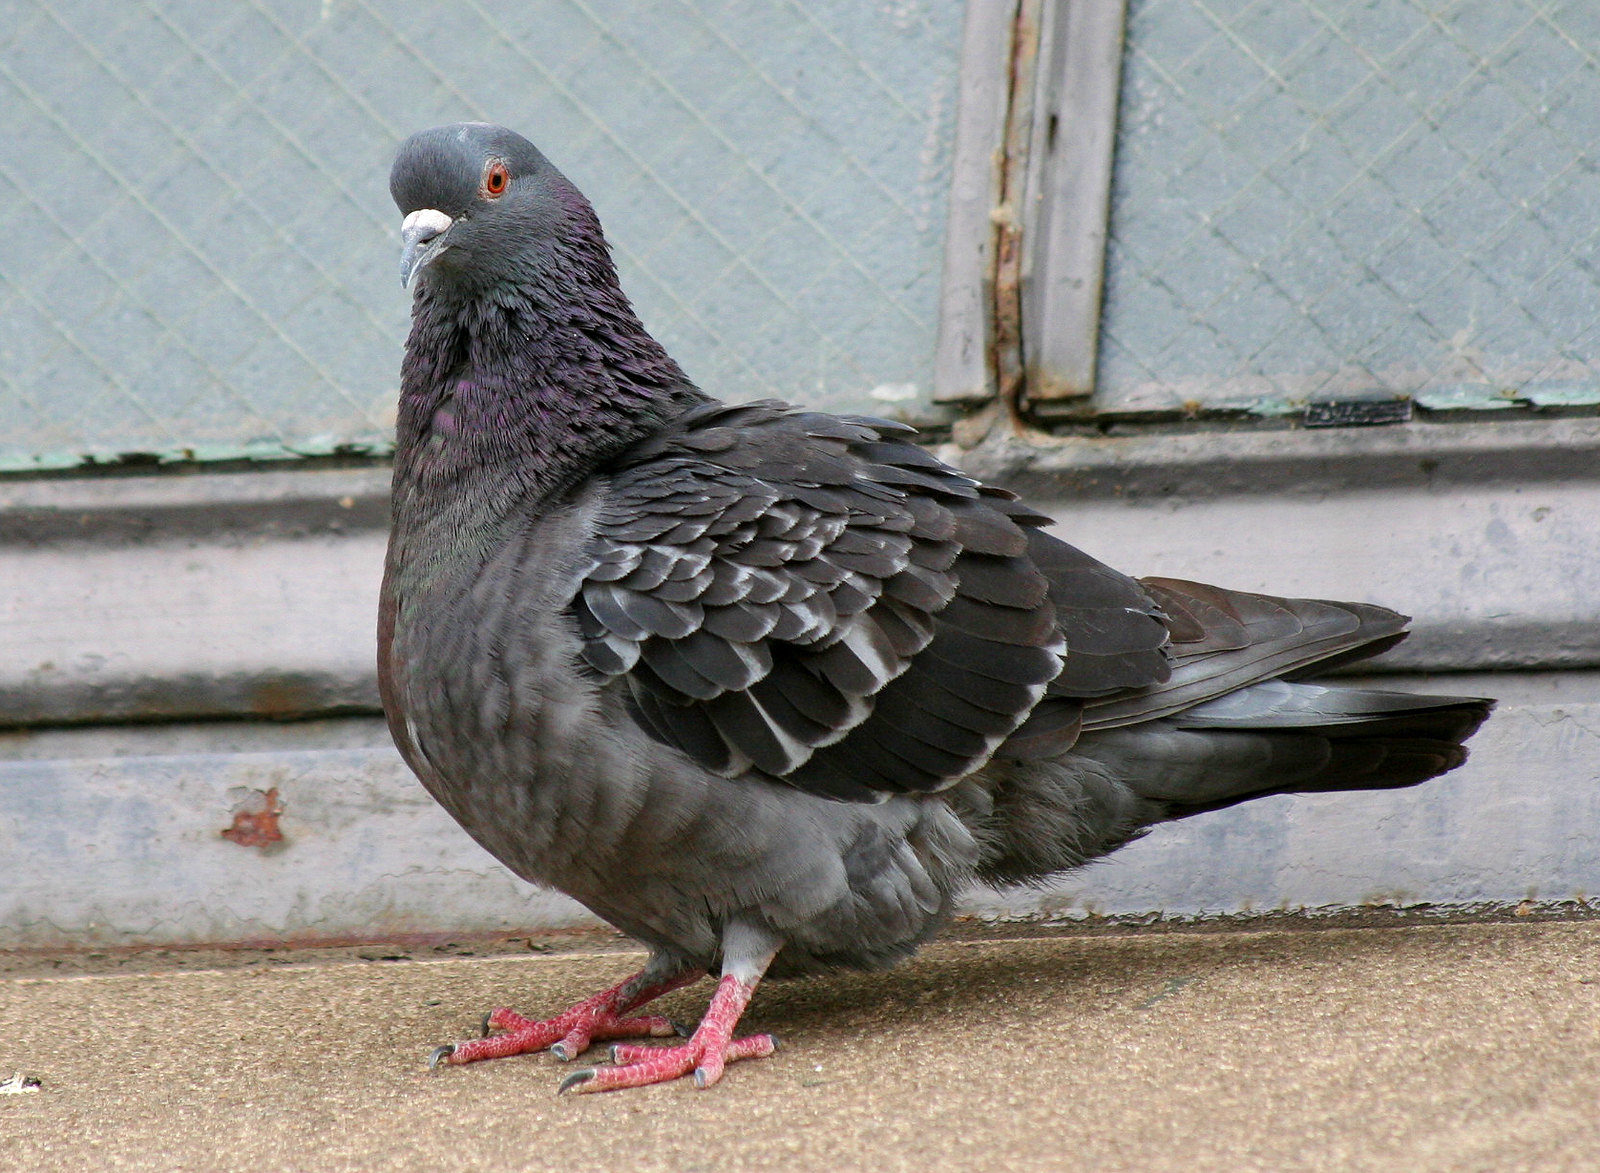pigeon: (347, 117, 1514, 1117)
